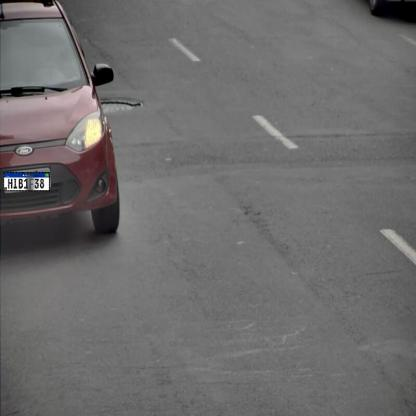PlacaM: (3, 172, 50, 191)
